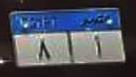8: (36, 37, 50, 60)
alif: (92, 35, 101, 57)
